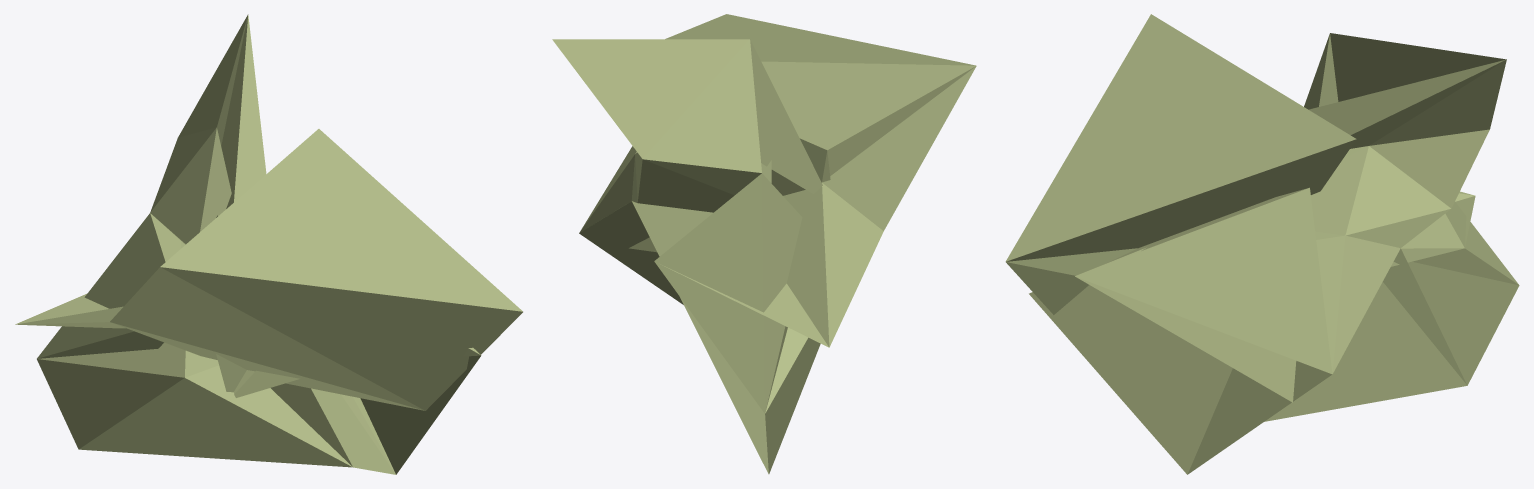
The model's file is Trash_CrumpledPaper.fbx.
3 views of the same model, side by side, from view 1: azimuth 30°, elevation 25°; view 2: azimuth 150°, elevation 25°; view 3: azimuth 270°, elevation 25° (orthographic). The views are drawn at different scales.
Parts seen in each view (by area): view 1: Icosphere; view 2: Icosphere; view 3: Icosphere.
Part boxes in pixels (x1,y1,x2,y2): Icosphere: (15, 14, 522, 474); Icosphere: (552, 14, 976, 474); Icosphere: (1005, 14, 1519, 474).
Bounding box in the file's own units: 353 × 420 × 454.
